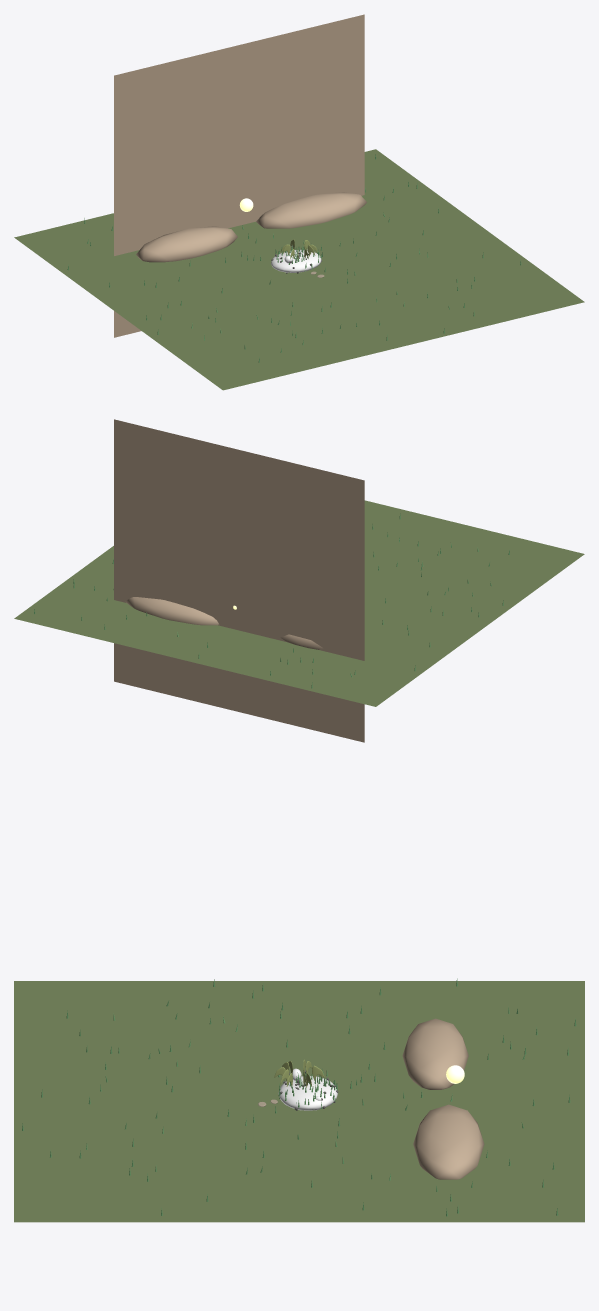
The picture shows the model from 3 angles, top to bottom: view 1: azimuth 30°, elevation 25°; view 2: azimuth 150°, elevation 25°; view 3: azimuth 270°, elevation 25°; orthographic projection. The views are drawn at different scales.
Parts seen in each view (by area): view 1: meadow_ground_plane, horizon_sky_glow_band, horizon_distant_hill_right, horizon_distant_hill_left, mound_hero_grassy; view 2: horizon_sky_glow_band, meadow_ground_plane, horizon_distant_hill_right; view 3: meadow_ground_plane, horizon_distant_hill_right, horizon_distant_hill_left, mound_hero_grassy.
Part boxes in pixels (x1,y1,x2,y2): meadow_ground_plane: (14, 149, 584, 390); horizon_sky_glow_band: (114, 14, 364, 337); horizon_distant_hill_right: (256, 192, 366, 228); horizon_distant_hill_left: (136, 226, 237, 262); mound_hero_grassy: (271, 245, 321, 273); horizon_sky_glow_band: (114, 419, 364, 742); meadow_ground_plane: (14, 500, 584, 706); horizon_distant_hill_right: (125, 597, 218, 625); meadow_ground_plane: (14, 978, 584, 1222); horizon_distant_hill_right: (413, 1104, 484, 1179); horizon_distant_hill_left: (402, 1018, 468, 1089); mound_hero_grassy: (278, 1072, 338, 1110).
Bounding box in the file's own units: 26 × 18 × 26.
